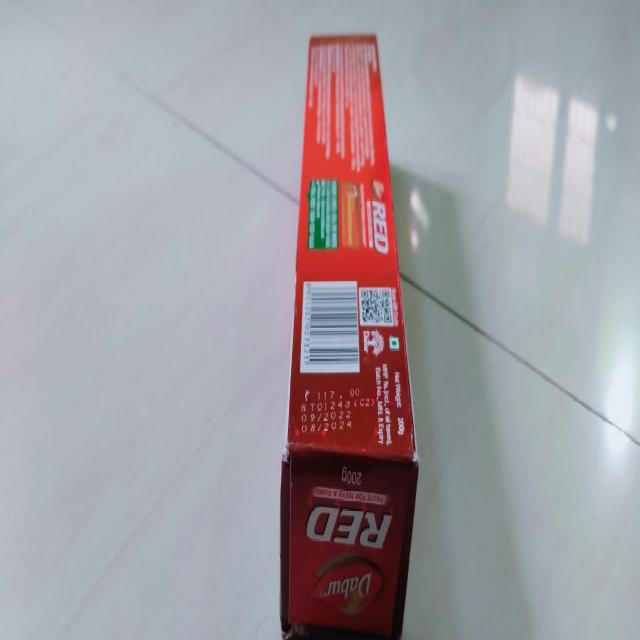tooth paste: (278, 36, 418, 640)
